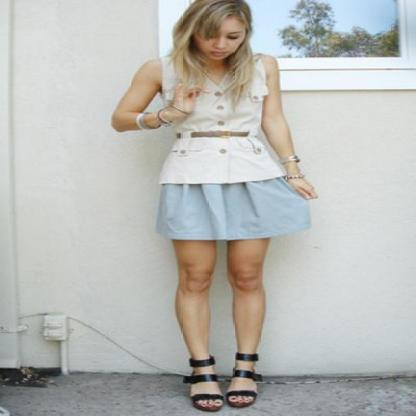shirt: (144, 51, 284, 183)
shoe: (187, 356, 261, 394)
skirt: (146, 179, 308, 239)
